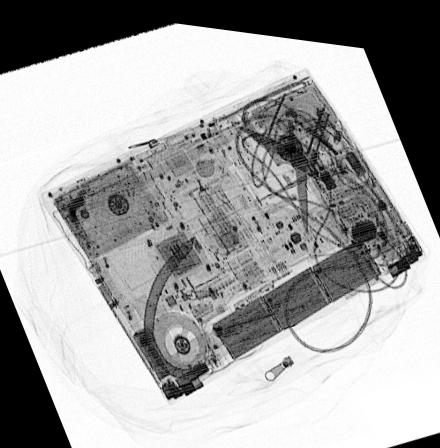Scissors: (236, 106, 338, 227)
